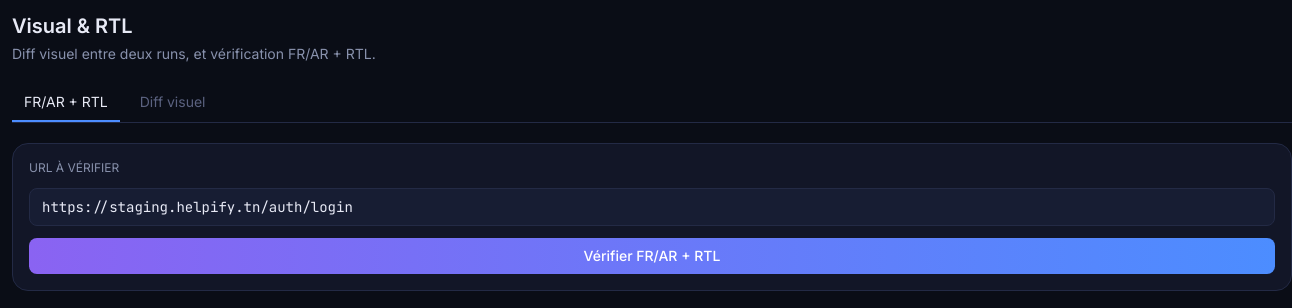
Visual/RTL : onglet FR/AR + RTL › bouton désactivé sans URL
Clear the field showing "staging.helpify.tn" at (652, 207), box [29, 188, 1275, 226]
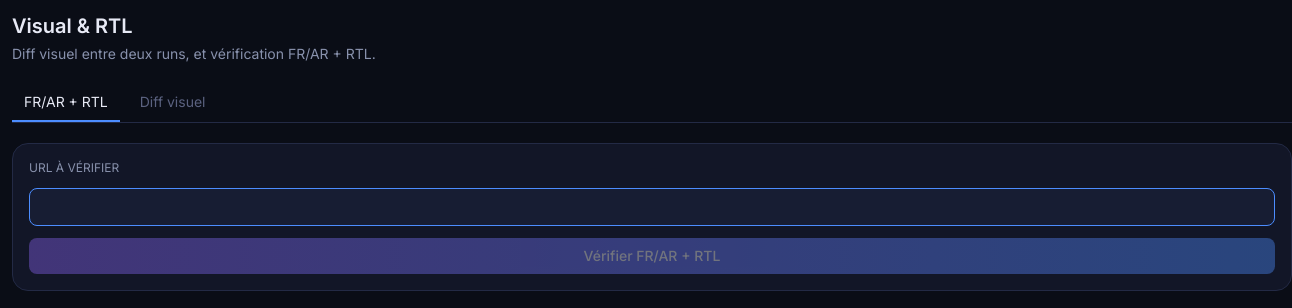
Expected: the button "Vérifier FR/AR + RTL" is disabled, [29, 238, 1275, 274]
